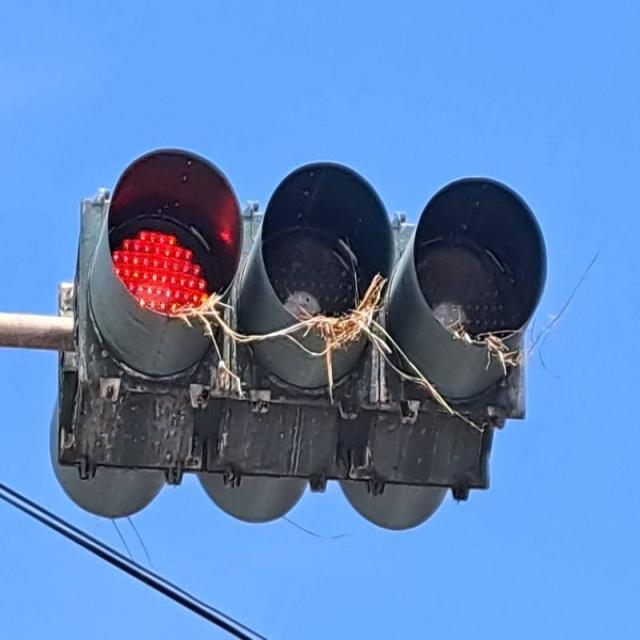red light: (47, 148, 548, 528)
